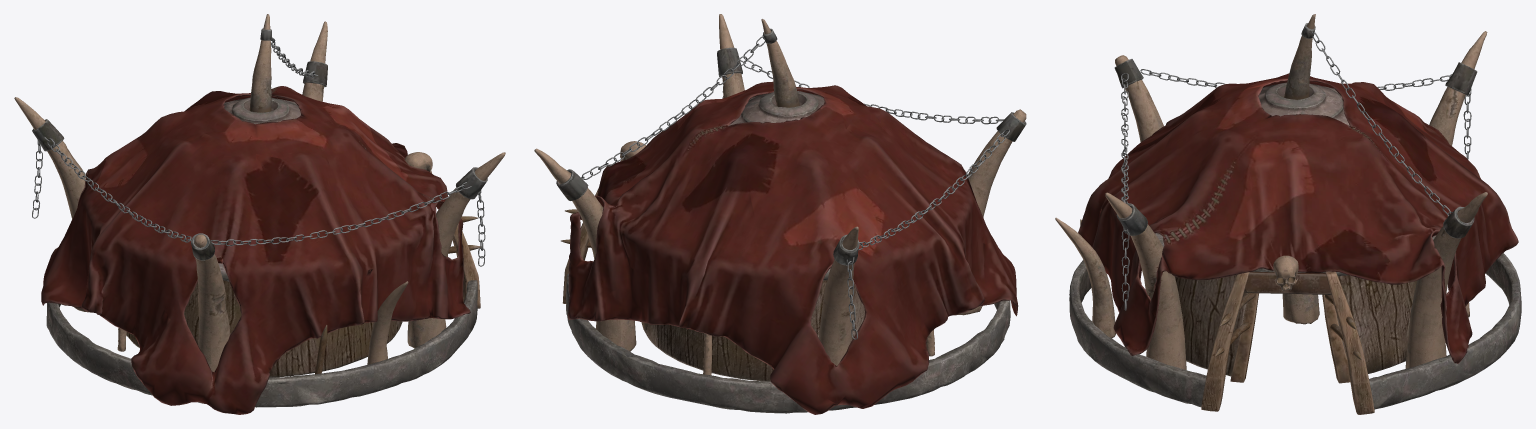
Rendered from orcHouse.glb.
3 views of the same model, side by side, from view 1: azimuth 30°, elevation 25°; view 2: azimuth 150°, elevation 25°; view 3: azimuth 270°, elevation 25° (orthographic). The views are drawn at different scales.
Parts seen in each view (by area): view 1: 1_low_default_0, 9_low_03 - Default_0, 6_low_03 - Default_0, 2_low_02 - Default_0; view 2: 1_low_default_0, 9_low_03 - Default_0, 6_low_03 - Default_0, 2_low_02 - Default_0; view 3: 1_low_default_0, 9_low_03 - Default_0, 6_low_03 - Default_0, 2_low_02 - Default_0.
Part boxes in pixels (box(x1,y1,x2,y2)): 1_low_default_0: box(41, 86, 480, 414); 9_low_03 - Default_0: box(32, 28, 487, 407); 6_low_03 - Default_0: box(14, 14, 505, 371); 2_low_02 - Default_0: box(32, 38, 485, 374); 1_low_default_0: box(562, 81, 1018, 414); 9_low_03 - Default_0: box(556, 28, 1026, 413); 6_low_03 - Default_0: box(534, 14, 1026, 365); 2_low_02 - Default_0: box(561, 34, 1009, 375); 1_low_default_0: box(1078, 73, 1518, 414); 9_low_03 - Default_0: box(1069, 23, 1521, 409); 6_low_03 - Default_0: box(1055, 14, 1487, 369); 2_low_02 - Default_0: box(1080, 31, 1471, 359).
Size of the model in its own units: 744 by 572 by 753.
4 materials, 4 textured.
